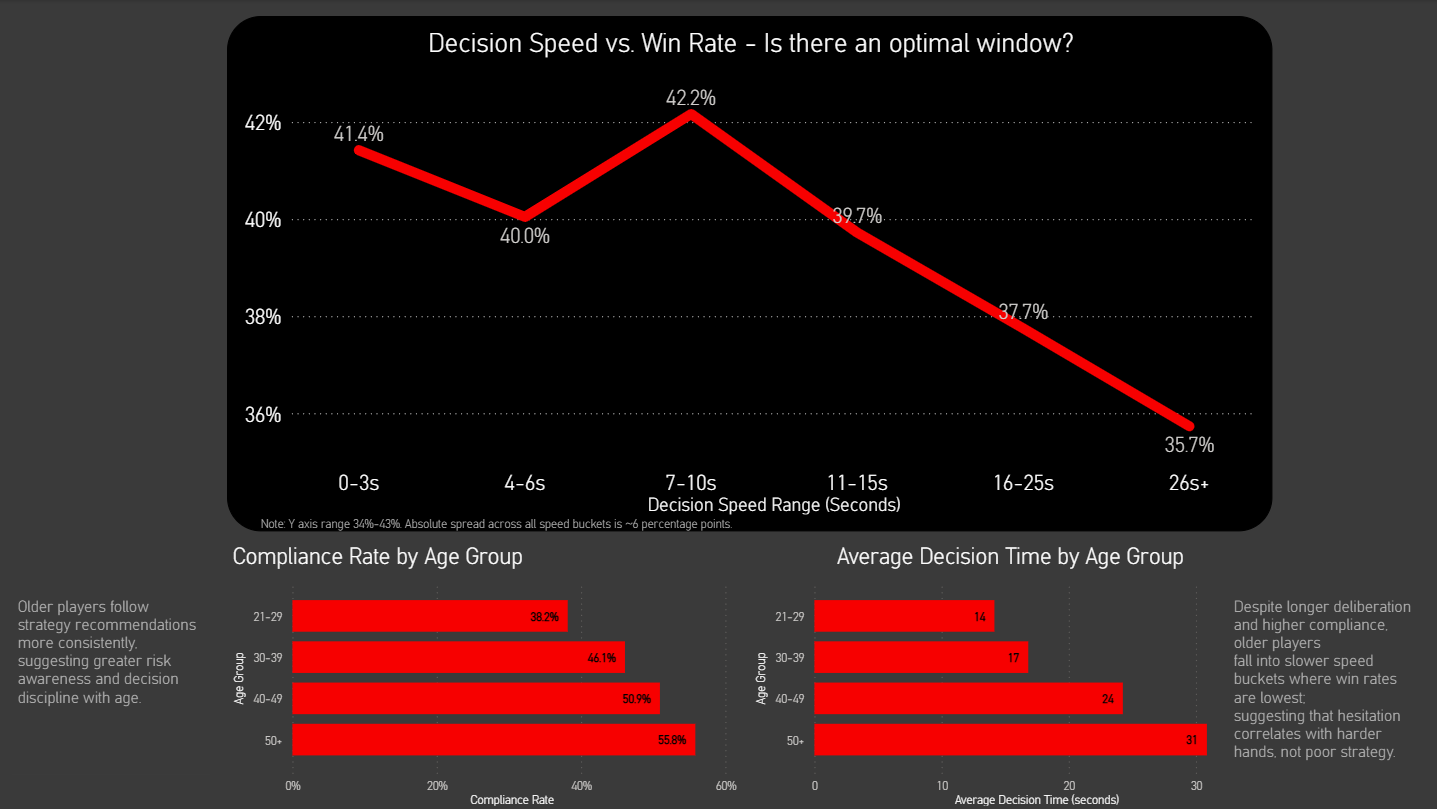

The dashboard page shown, as its layout file describes it:
{"tool":"powerbi","page":{"name":"Behavioral Analytics","canvas":[1280,720],"ordinal":2},"visuals":[{"type":"lineChart","title":"Decision Speed vs. Win Rate - Is there an optimal window? ","fields":{"Category":["GameSessions.SpeedBucket"],"Y":["GameSessions.Win Rate by Bucket"]},"box":[201.8,14.5,927.3,457.3],"z":0},{"type":"textbox","box":[227.3,451,430,35.5],"z":1000},{"type":"clusteredBarChart","title":"Average Decision Time by Age Group","fields":{"Category":["GameSessions.AgeBracket"],"Y":["GameSessions.Avg Decision Time"]},"box":[665.5,481.8,463.6,238.2],"z":2000},{"type":"clusteredBarChart","title":"Compliance Rate by Age Group","fields":{"Category":["GameSessions.AgeBracket"],"Y":["GameSessions.Compliance Rate"]},"box":[201.8,481.8,462.7,238.2],"z":2001},{"type":"textbox","box":[1090,524.5,176.4,161.8],"z":2002},{"type":"textbox","box":[11.8,524.5,176.4,161.8],"z":2003}]}

Visuals, with their boxes in screenshot pixels (x1, y1, x2, y2), scaled from the page's 1280x720 canvas onto the 1437x809 screenshot:
"Decision Speed vs. Win Rate - Is there an optimal window? " lineChart: BBox(227, 16, 1268, 530)
textbox: BBox(255, 507, 738, 547)
"Average Decision Time by Age Group" clusteredBarChart: BBox(747, 541, 1268, 808)
"Compliance Rate by Age Group" clusteredBarChart: BBox(227, 541, 746, 808)
textbox: BBox(1224, 589, 1422, 771)
textbox: BBox(13, 589, 211, 771)
